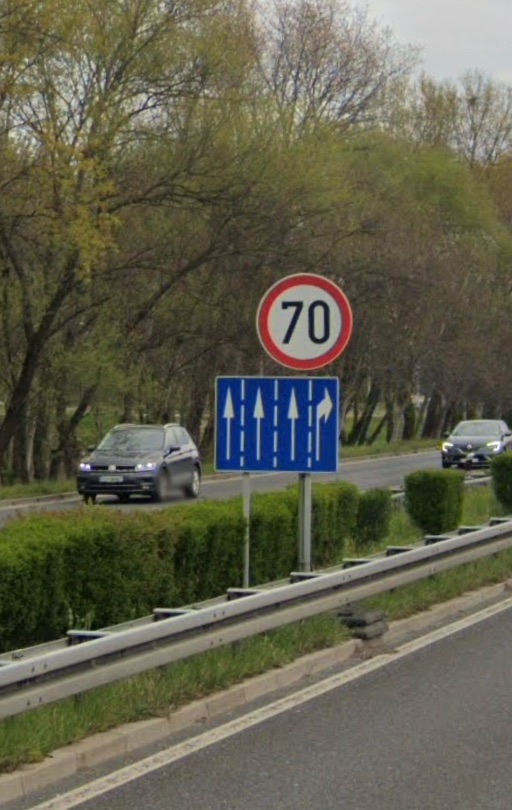Ograničenje brzine 70: (256, 272, 353, 371)
